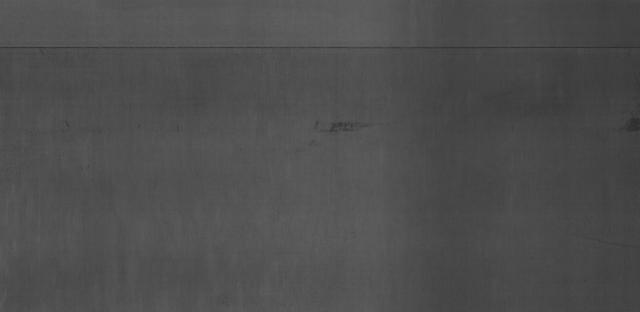oil_spot: (306, 117, 381, 142), (624, 116, 640, 138)
welding_line: (0, 38, 640, 57)
